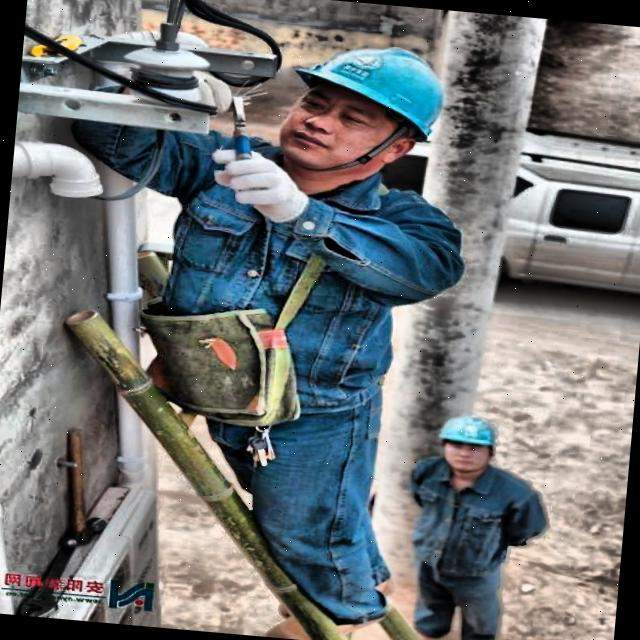helmet: (264, 18, 472, 202), (434, 412, 502, 479)
